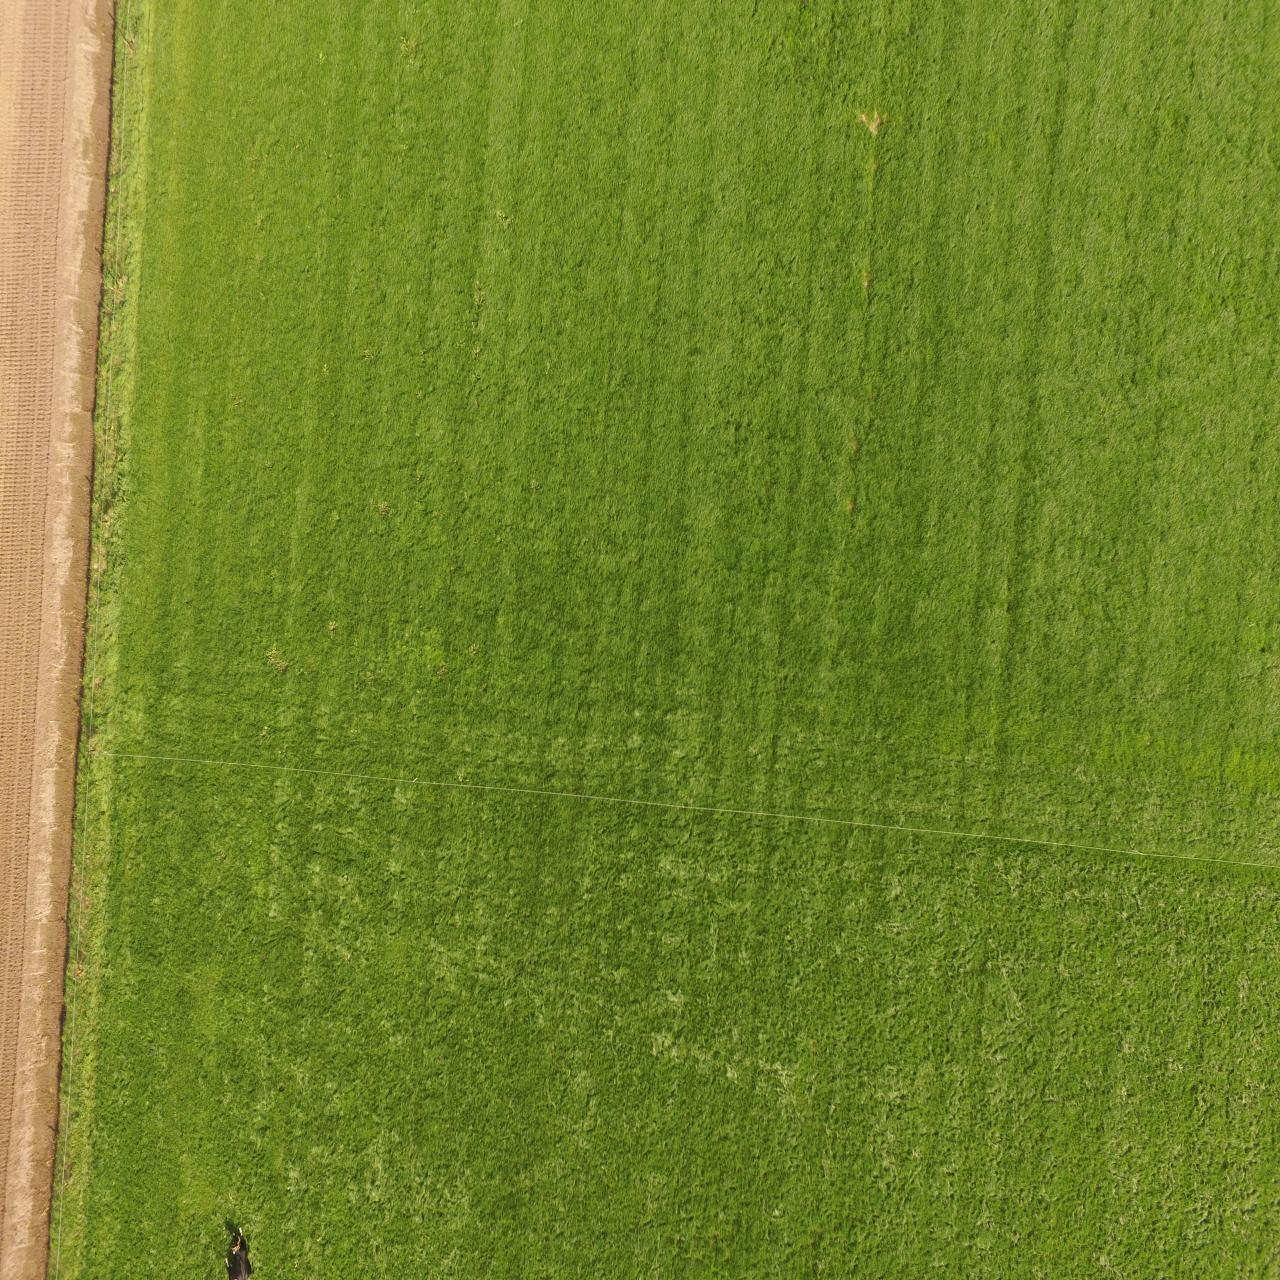cow: (225, 1224, 253, 1280)
